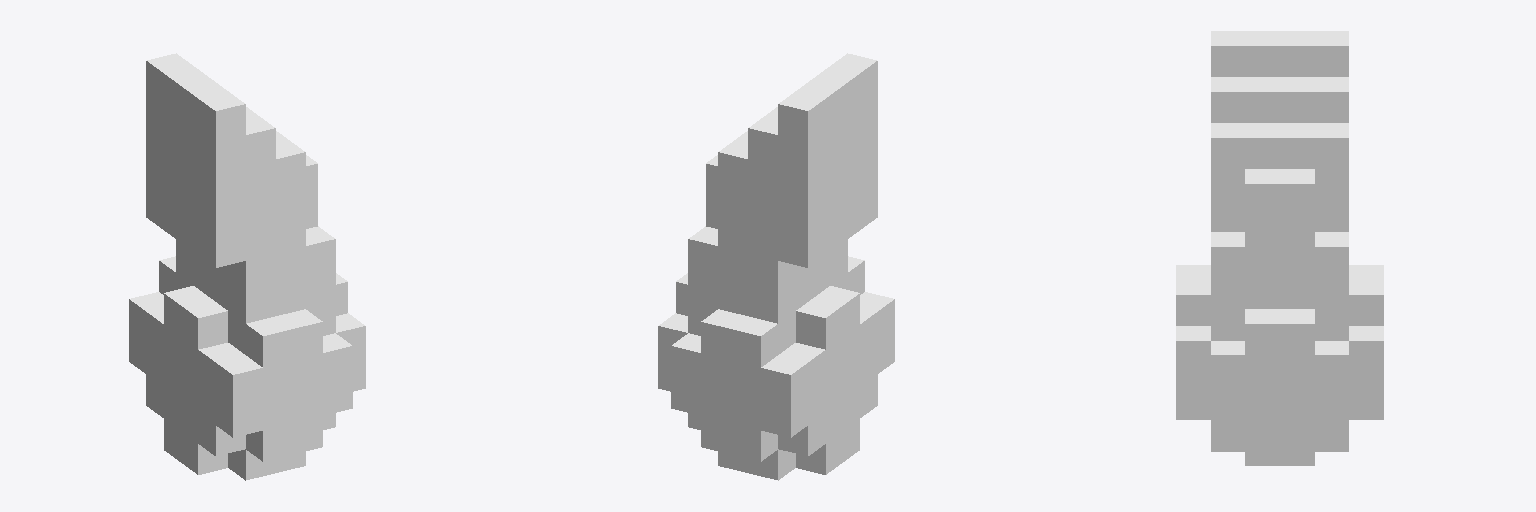
The model's file is BombBrIzq.obj.
3 views of the same model, side by side, from view 1: azimuth 30°, elevation 25°; view 2: azimuth 150°, elevation 25°; view 3: azimuth 270°, elevation 25° (orthographic).
Visible parts, largest first — view 1: bomberman.002; view 2: bomberman.002; view 3: bomberman.002.
Part boxes in pixels (x1,y1,x2,y2): bomberman.002: (129,53,365,480); bomberman.002: (658,53,894,480); bomberman.002: (1176,31,1383,465).
Size of the model in its own units: 0.5 by 1.2 by 0.6.